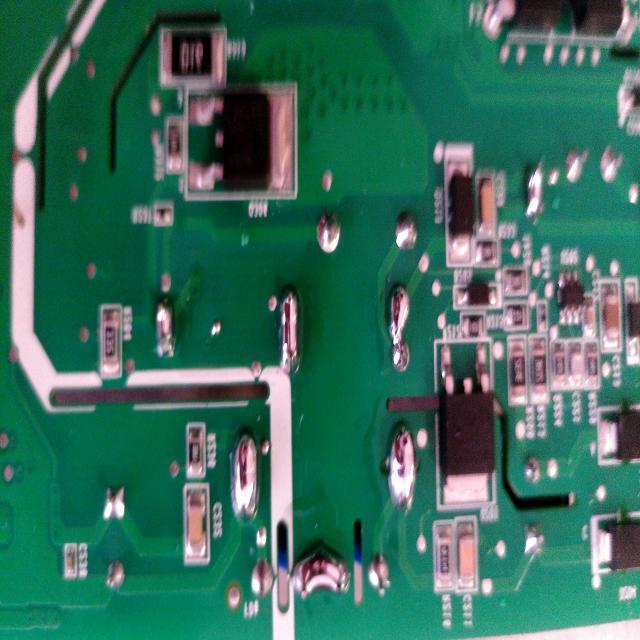Soldering bridge: (289, 542, 353, 606), (387, 416, 418, 518), (384, 272, 414, 375), (276, 277, 302, 378), (228, 520, 232, 526)
